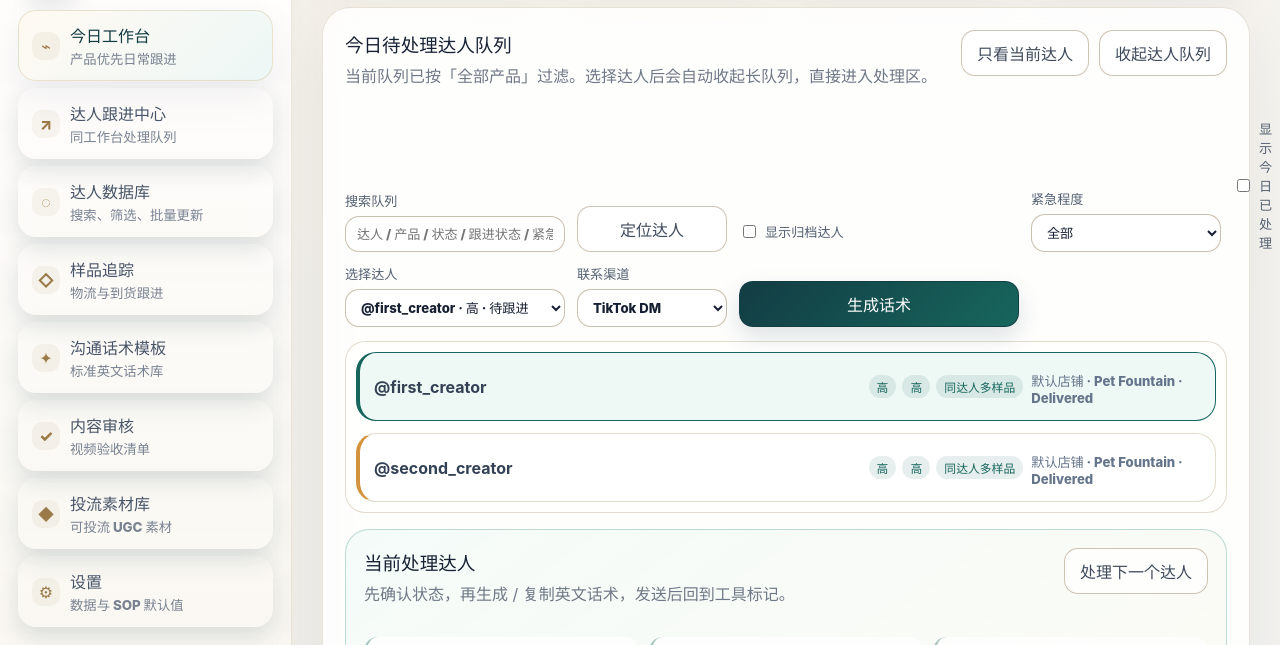
Scenario: operations workbench navigation and dashboard › selecting a creator collapses the compact queue and processing next creator advances within the filter
This screenshot has width=1280, height=645.
(page scrolled)
Select "@first_creator · 高 · 待跟进" in the dropdown labelled "选择达人": x=455, y=308 [345, 289, 565, 327]
(page scrolled)
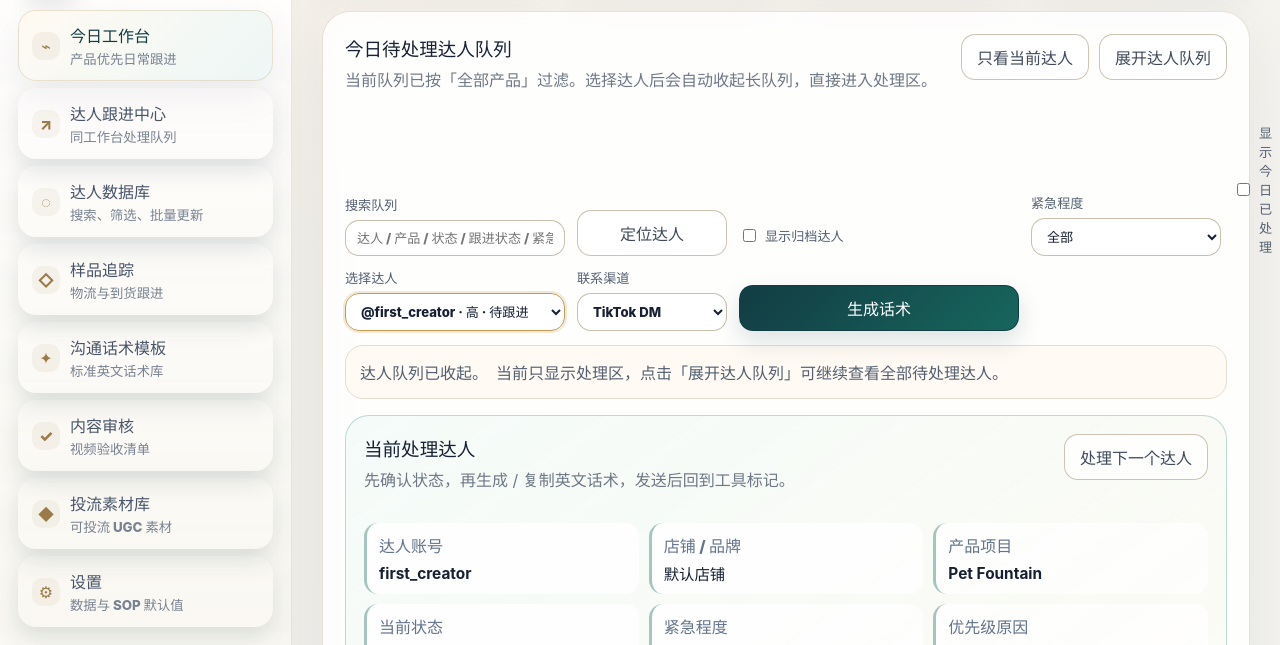
expect the element with test id "current-creator-panel" shows "first_creator": met, box [379, 564, 472, 582]
expect the element with test id "creator-queue" is gone: met
expect the text "达人队列已收起。" is shown: met, box [360, 360, 488, 384]
Click the button "生成话术": x=879, y=308 [739, 285, 1019, 331]
(page scrolled)
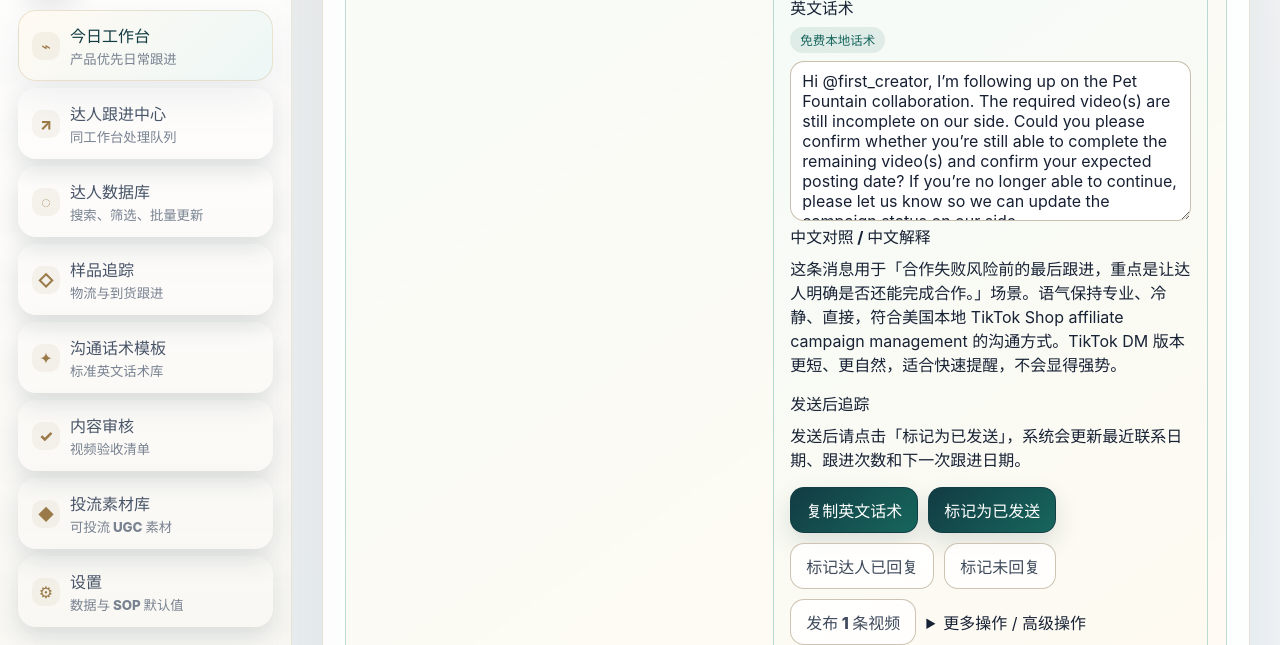
Click the button "标记为已发送": x=992, y=510 [928, 487, 1056, 533]
(page scrolled)
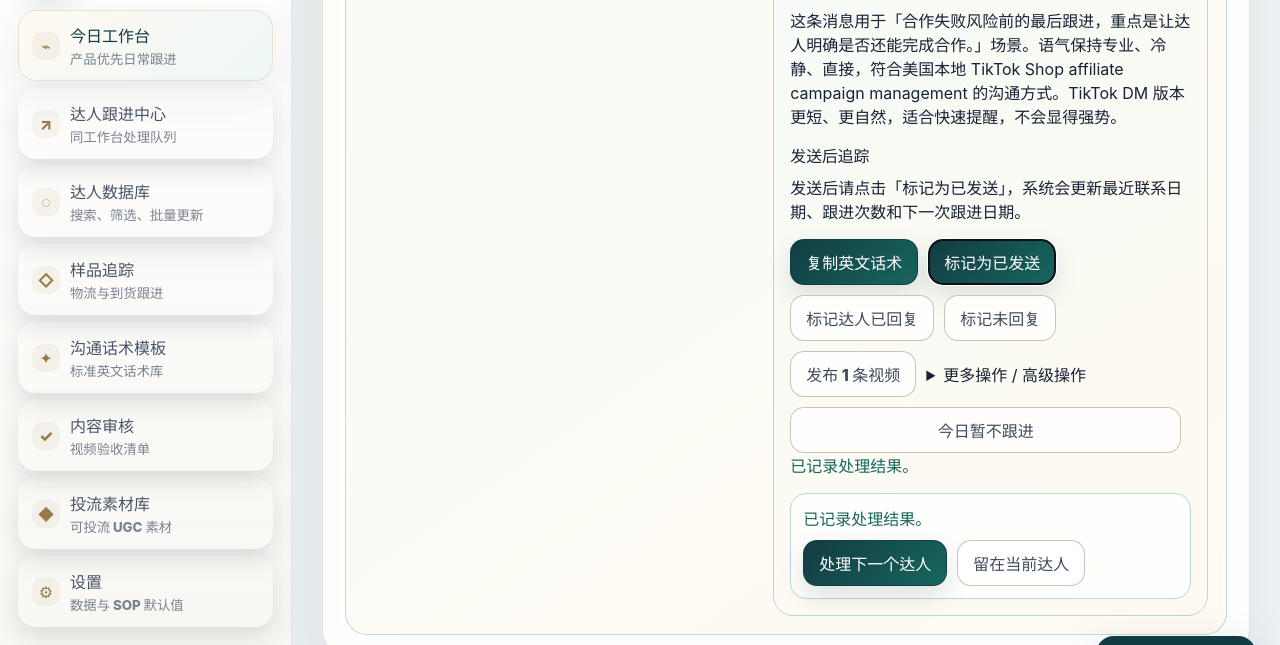
Click the button "处理下一个达人": x=875, y=563 [803, 540, 947, 586]
(page scrolled)
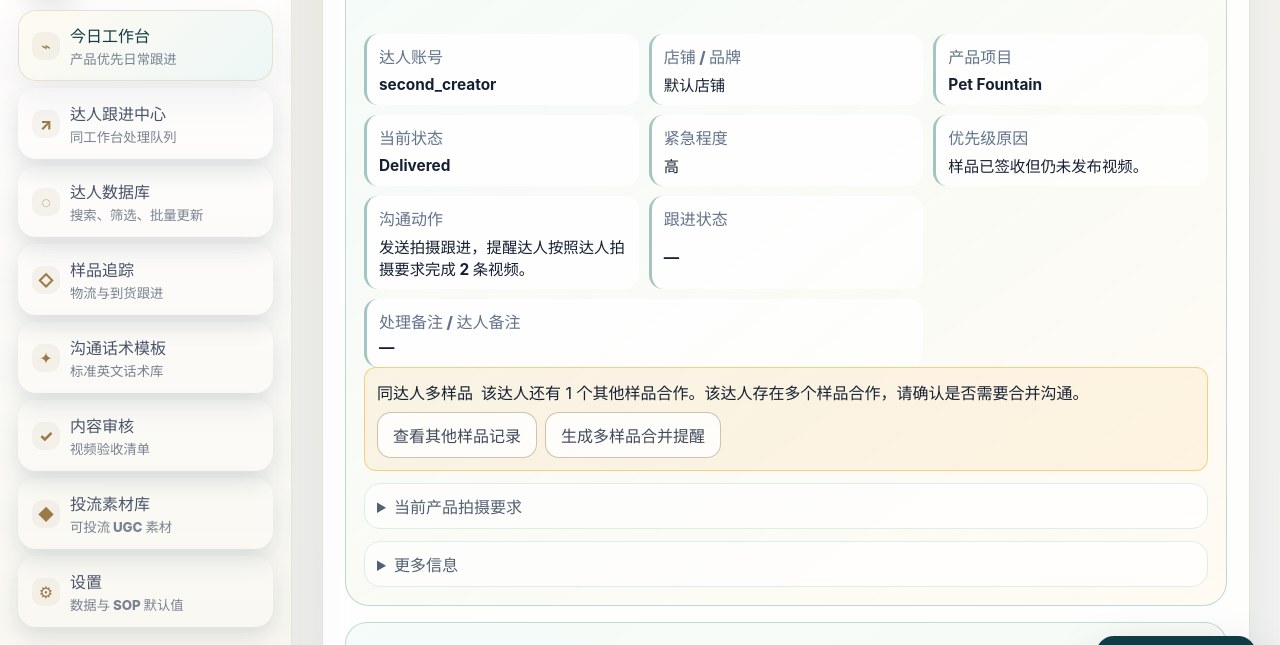
expect the element with test id "current-creator-panel" shows "second_creator": met, box [379, 74, 496, 94]
